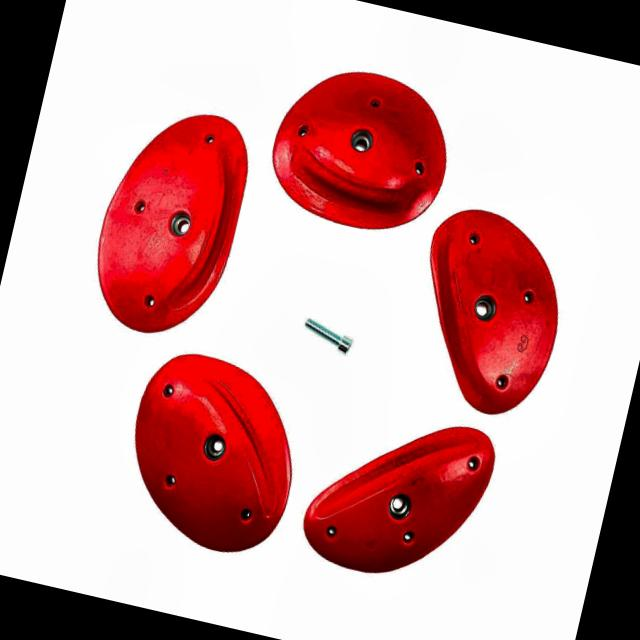Hold: (105, 343, 318, 565), (394, 197, 578, 426), (299, 394, 506, 595), (85, 100, 258, 340), (259, 56, 456, 240)
